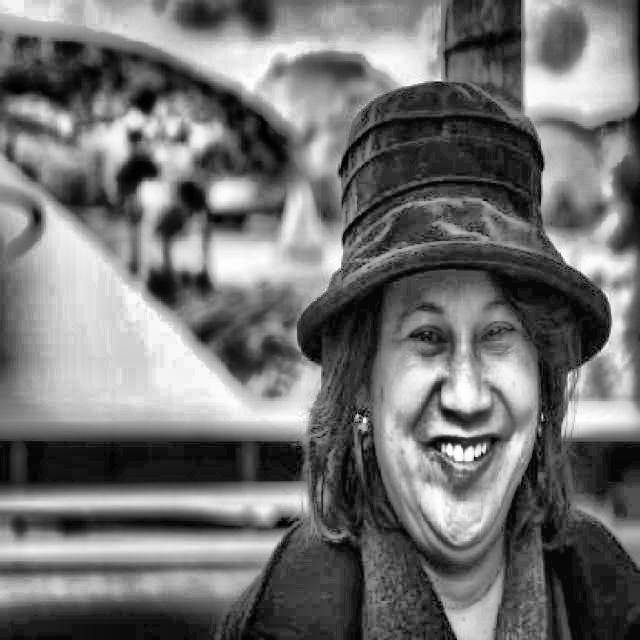happy: (368, 288, 545, 554)
